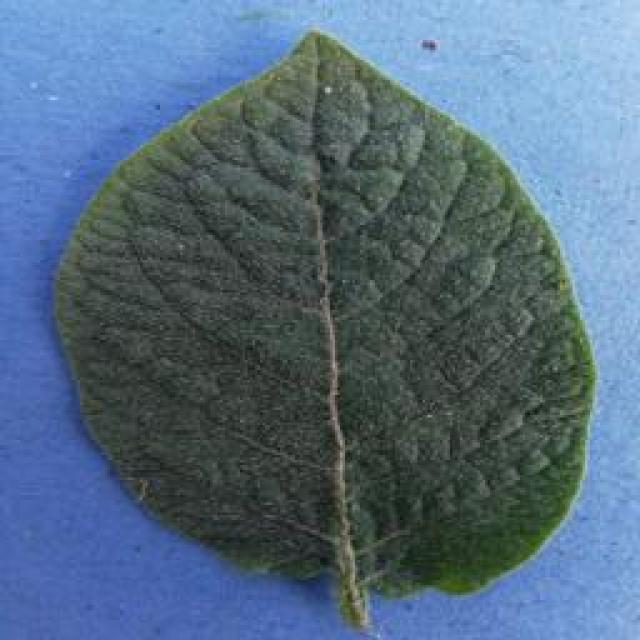Potato_Healthy: (53, 24, 592, 620)
